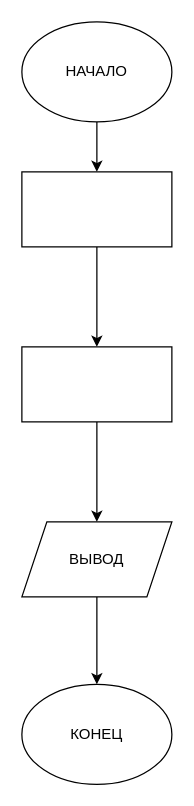
Image size: 194x806. Some labels were removed from this diagram. Here are the shapes that lost their labels. From the top down, the centre of each, then its label:
the point at 96,209: rasstoyanie / rolls
the point at 96,384: (rasstoyanie / rolls) - (rasstoyanie * 1.0 / ford)
